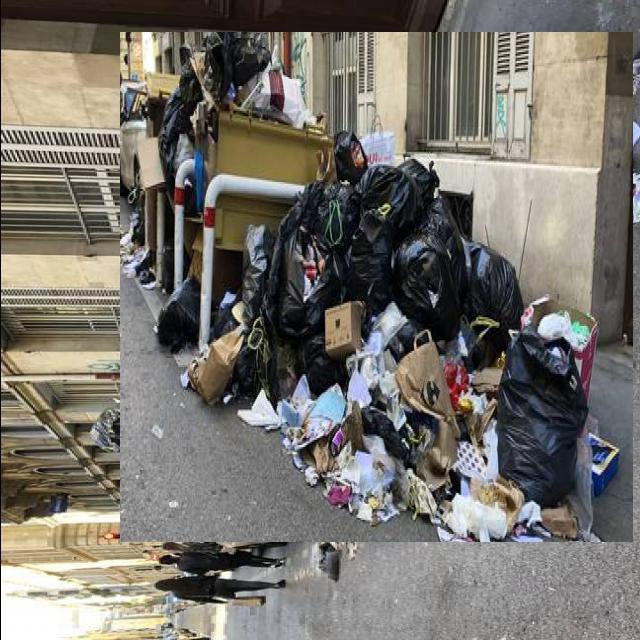Trashbag: (495, 331, 592, 510), (393, 208, 466, 328), (282, 226, 344, 342), (462, 243, 525, 339), (236, 223, 292, 326), (342, 215, 397, 317), (278, 188, 356, 235), (156, 274, 205, 348), (331, 128, 374, 190)
